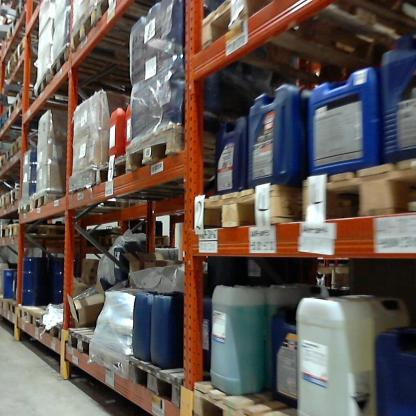pallets: (4, 296, 191, 412), (17, 111, 192, 224), (182, 164, 416, 237), (25, 2, 119, 100), (193, 0, 302, 61)
